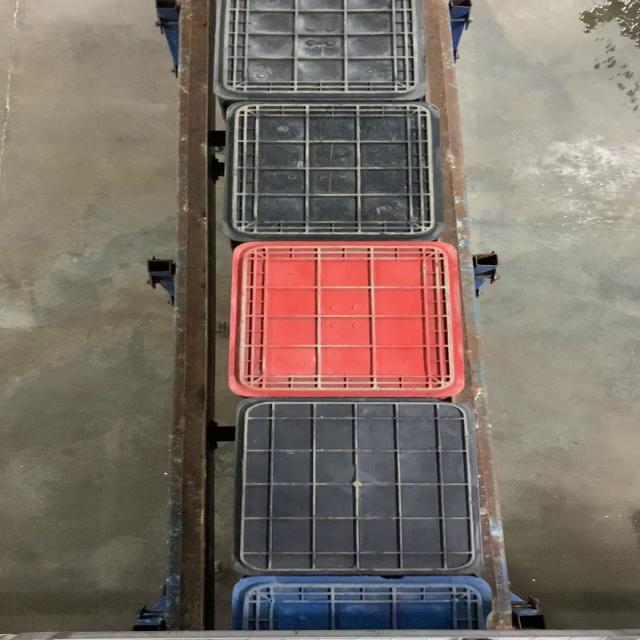Box: (228, 402, 491, 576), (224, 241, 466, 401), (225, 102, 446, 240)
